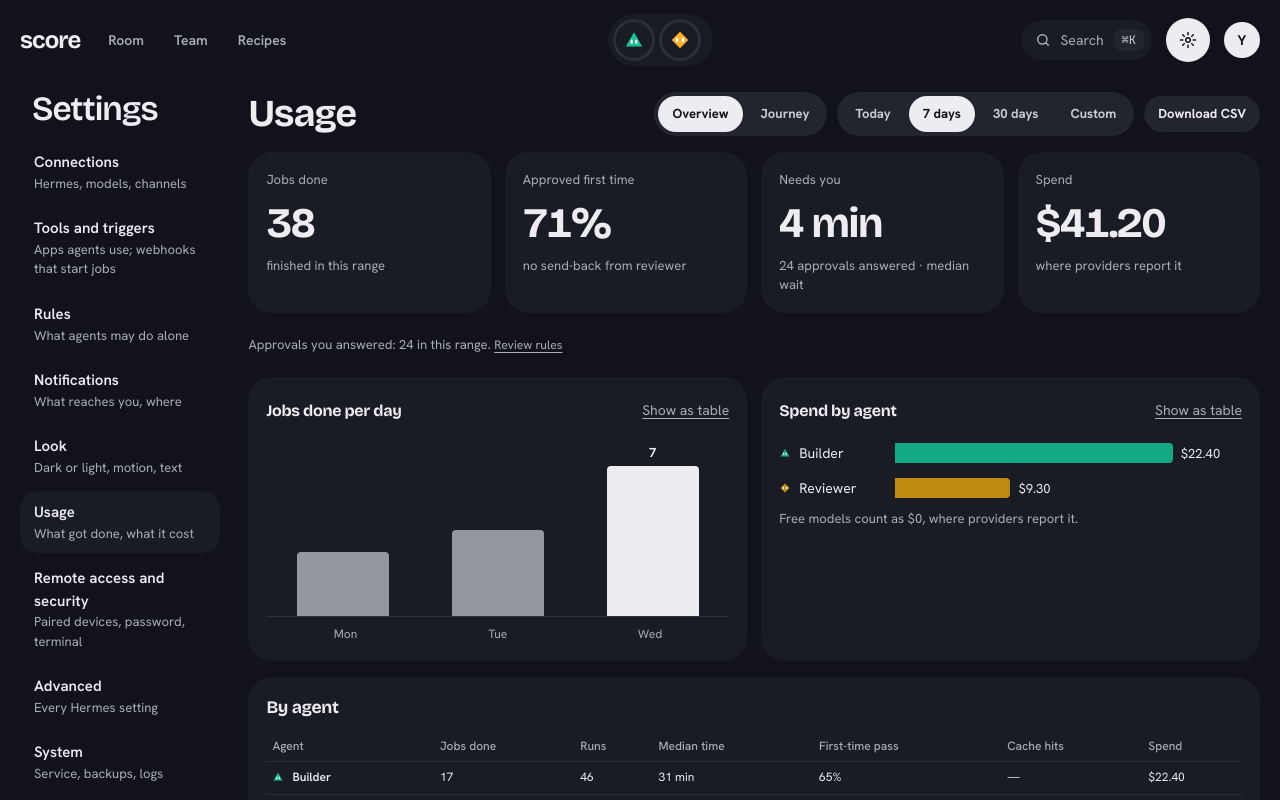
Test case: jobs per day is one neutral series with the busiest day highlighted and an agent table
Expected: the text with class "usage-jobs-value" reads "7", [649,444,656,461]
Click the button "Show as table" in the row of "Jobs done per day, by agent" at (686, 411), box [642,395,729,427]
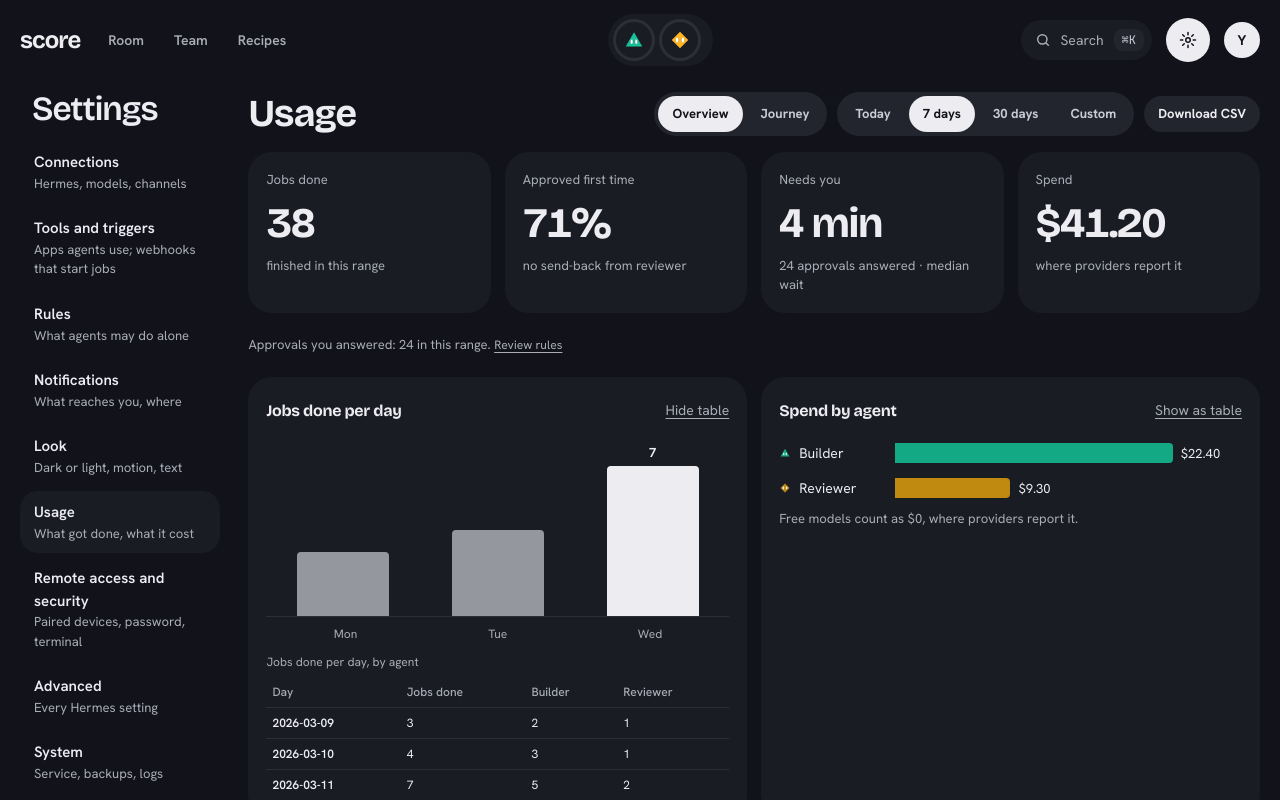
Expected: the button "Hide table" is shown, [666,395,729,427]
